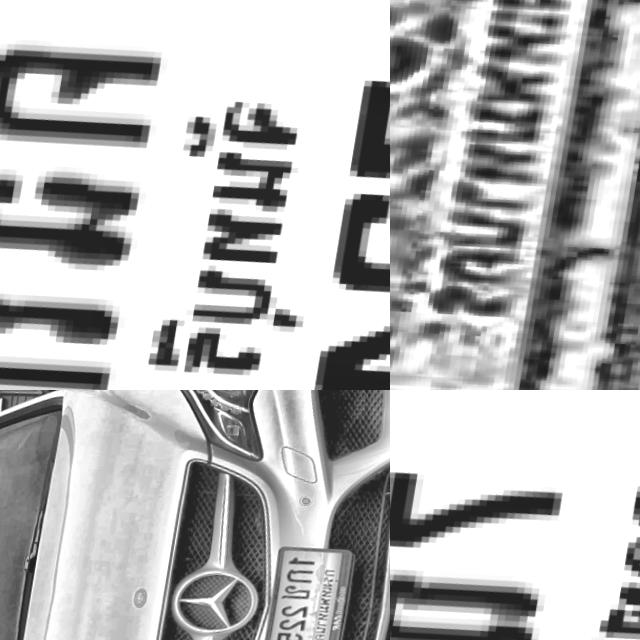license-plate: (0, 0, 390, 390), (390, 0, 640, 390), (390, 390, 640, 640), (247, 537, 367, 640)
